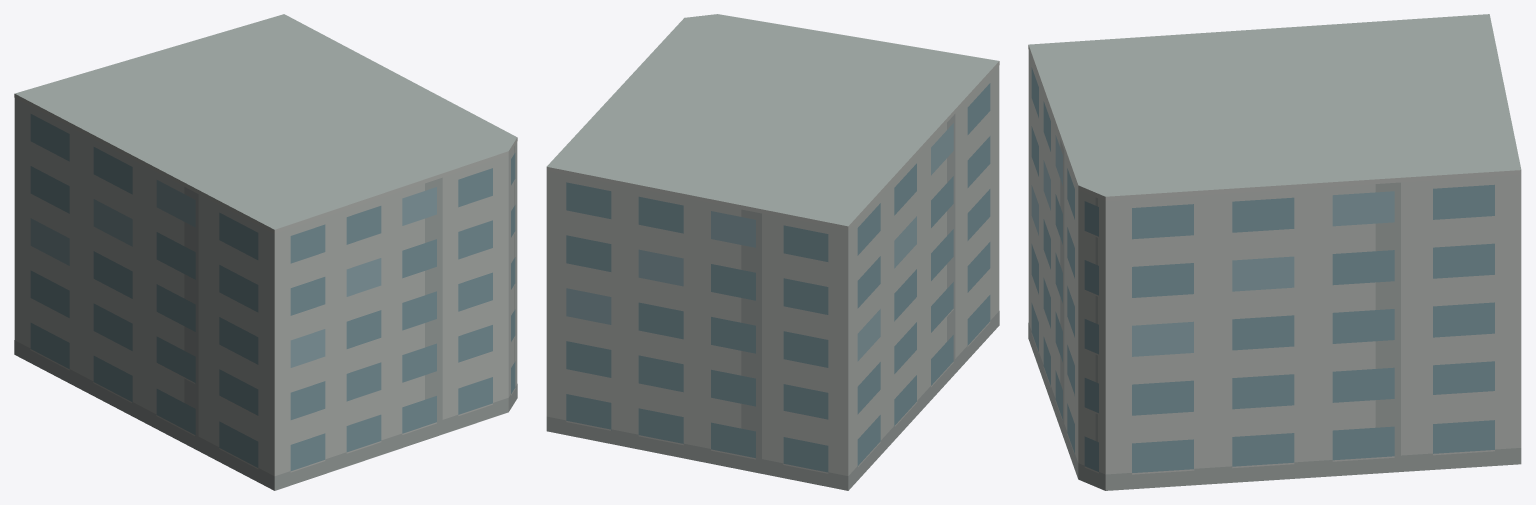
File: survey-upis-32801733.glb
3 views of the same model, side by side, from view 1: azimuth 30°, elevation 25°; view 2: azimuth 150°, elevation 25°; view 3: azimuth 270°, elevation 25° (orthographic). The views are drawn at different scales.
Visible parts, largest first — view 1: survey-upis-32801733.tmp; view 2: survey-upis-32801733.tmp; view 3: survey-upis-32801733.tmp.
Boxes of the visible parts, x1,y1,x2,y2 form: survey-upis-32801733.tmp: (14, 14, 517, 490); survey-upis-32801733.tmp: (546, 14, 999, 490); survey-upis-32801733.tmp: (1028, 14, 1521, 490).
Size of the model in its own units: 20.32 by 15.25 by 23.17.
